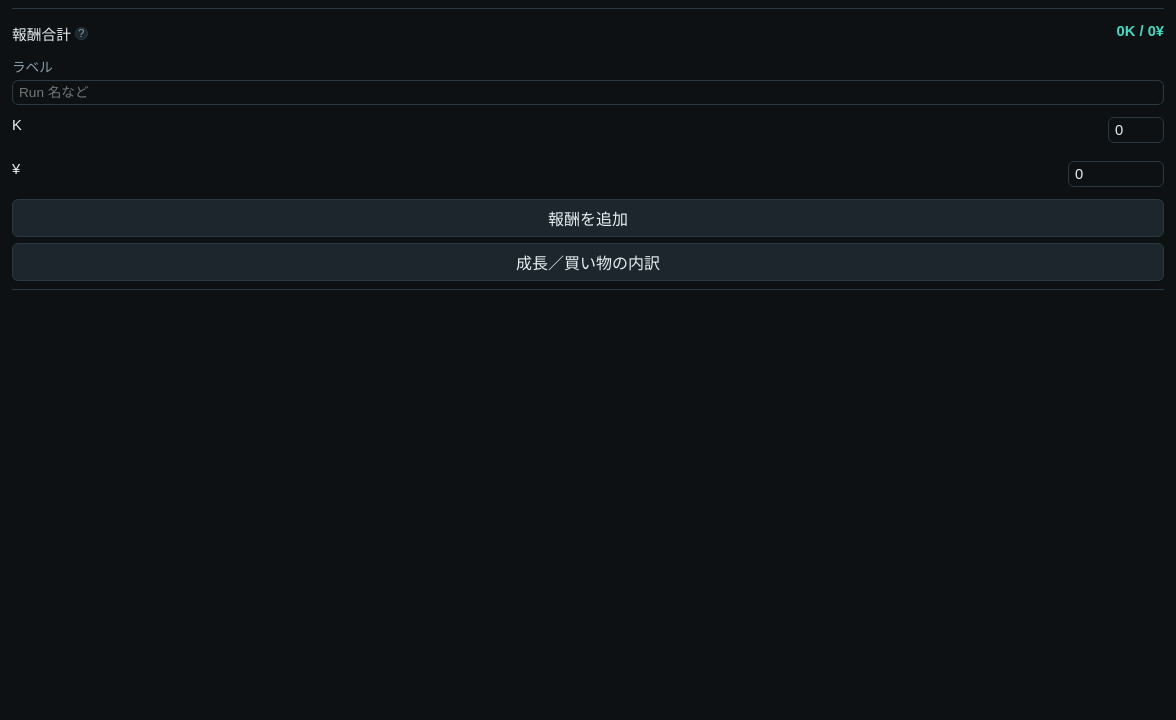
Scenario: <SidebarCareerRewards> › lists what a Chummer save already spent, without counting it again
Click the button "成長／買い物の内訳" at (588, 262), box [12,243,1164,281]
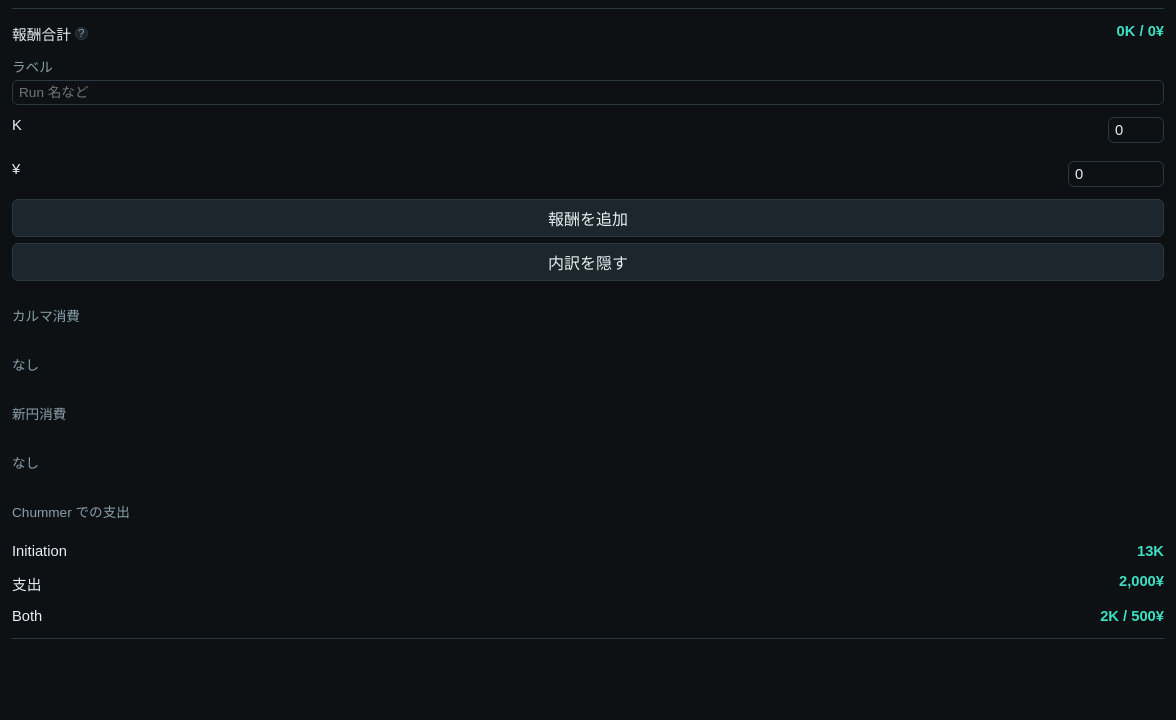
Check: the text "Chummer での支出" is shown, box [12,505,130,520]
Check: the text "13K" is shown, box [1137,543,1164,559]
Check: the text "2,000¥" is shown, box [1119,573,1164,594]
